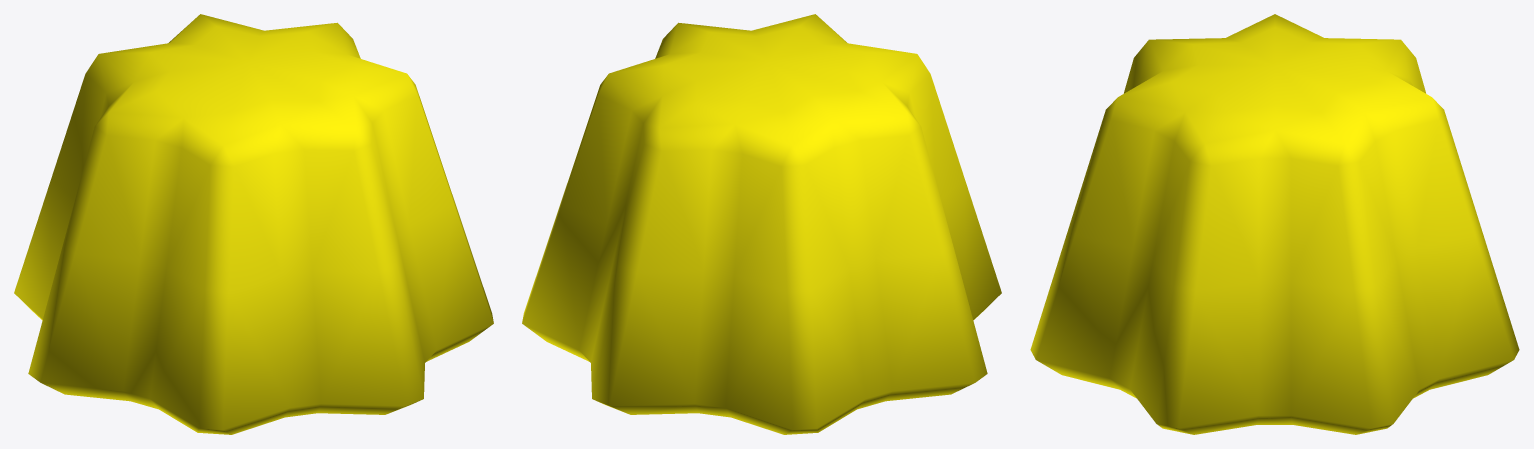
File: Jelly2.FBX
3 renders of one model, left to right at view 1: azimuth 30°, elevation 25°; view 2: azimuth 150°, elevation 25°; view 3: azimuth 270°, elevation 25°, orthographic.
Parts seen in each view (by area): view 1: Cylinder001; view 2: Cylinder001; view 3: Cylinder001.
Boxes of the visible parts, x1,y1,x2,y2 form: Cylinder001: (14, 14, 493, 434); Cylinder001: (522, 14, 1001, 434); Cylinder001: (1030, 14, 1519, 434).
Size of the model in its own units: 1.9 by 1.94 by 1.23.
1 material, 1 textured.
